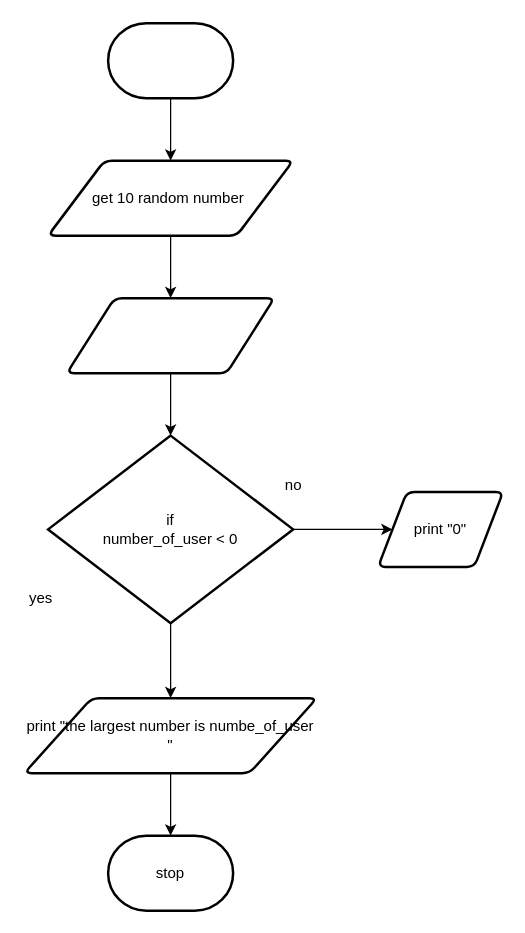
This 525x933 diagram has some shape labels left out. The shapes that lost their labels are listed below. From the top down, each one's centre as x and y in pixels, then its label:
At [170,60]: "start".
At [170,335]: "input 10 number".
